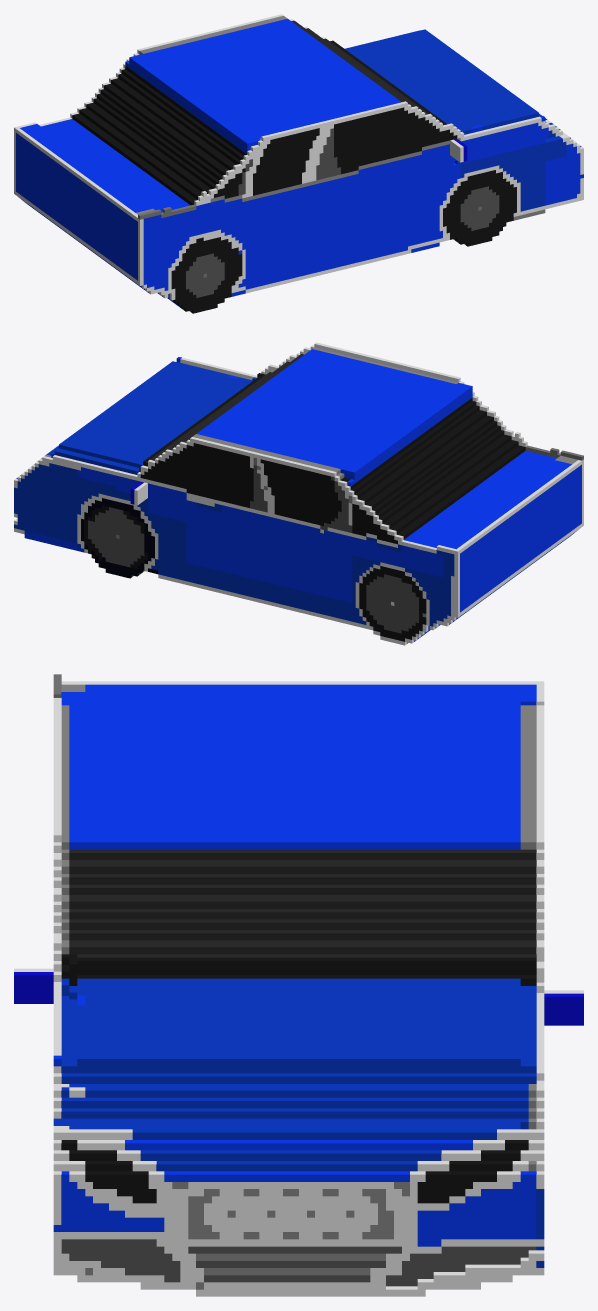
Rendered from blue.obj.
3 renders of one model, top to bottom at view 1: azimuth 30°, elevation 25°; view 2: azimuth 150°, elevation 25°; view 3: azimuth 270°, elevation 25°, orthographic. The views are drawn at different scales.
Bounding box in the file's own units: 126 × 43 × 72.
